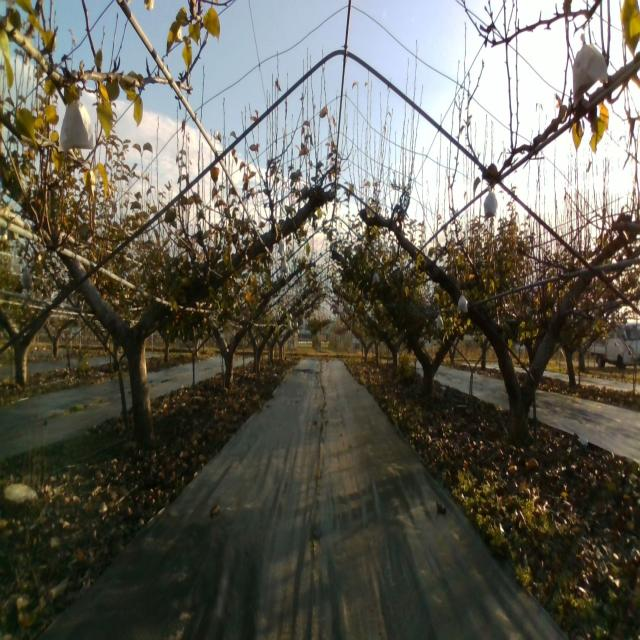pearbags: (572, 32, 610, 108), (57, 100, 94, 152), (483, 186, 499, 220), (456, 290, 468, 314)
